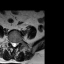CCS_normal: (13, 40, 15, 48)
LFS_normal: (17, 40, 19, 46)
LLS_normal: (15, 40, 17, 48)
RFS_normal: (9, 38, 11, 46)
RLS_normal: (11, 39, 13, 48)
